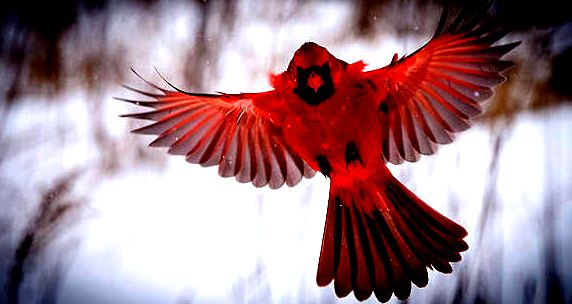Bird: (109, 6, 541, 302)
